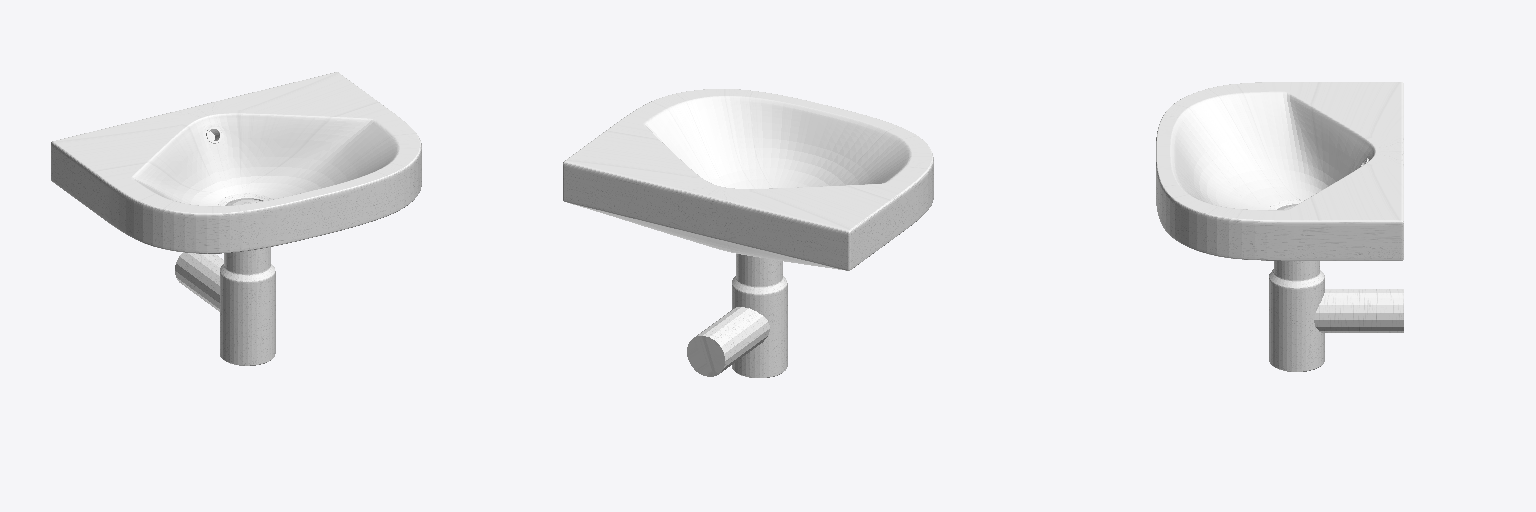
The picture shows the model from 3 angles: view 1: azimuth 30°, elevation 25°; view 2: azimuth 150°, elevation 25°; view 3: azimuth 270°, elevation 25°; orthographic projection.
Visible parts, largest first — view 1: washbasin-01; view 2: washbasin-01; view 3: washbasin-01.
Part boxes in pixels (bbox=[...]): washbasin-01: bbox=[51, 72, 421, 365]; washbasin-01: bbox=[563, 89, 933, 377]; washbasin-01: bbox=[1156, 82, 1403, 371].
Bounding box in the file's own units: 35.67 × 24.88 × 26.69.
Materials: 1 (1 with a texture image).